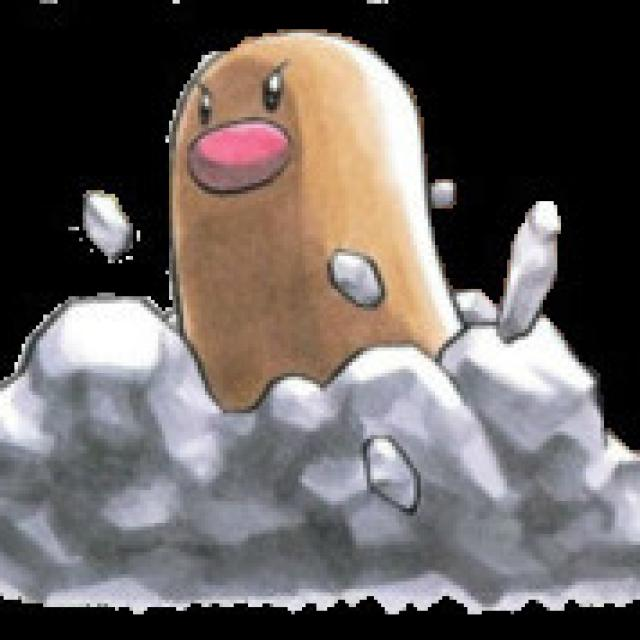Diglett: (165, 26, 439, 421)
